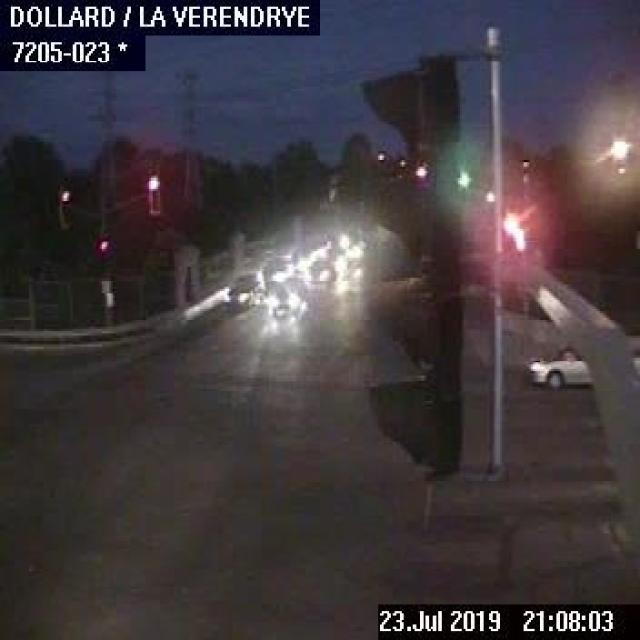vehicle: (523, 344, 638, 388), (264, 288, 308, 329), (225, 268, 265, 313), (255, 257, 292, 284)
